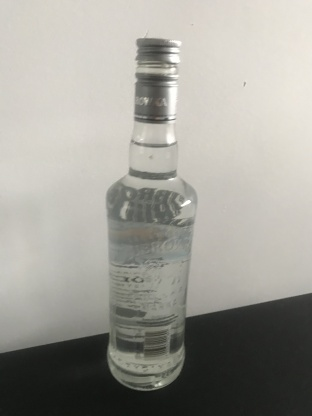nakretka: (132, 34, 183, 124)
